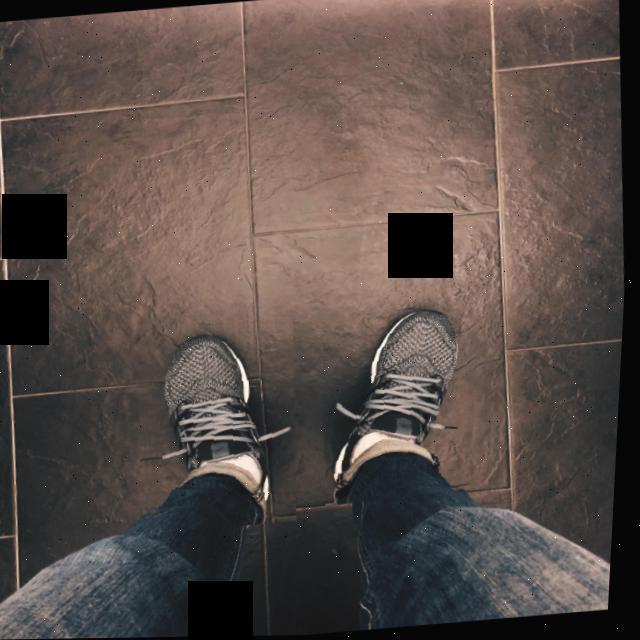shoe: (134, 315, 311, 534), (317, 295, 498, 508)
